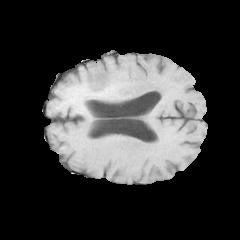glioma: (68, 61, 176, 113)
